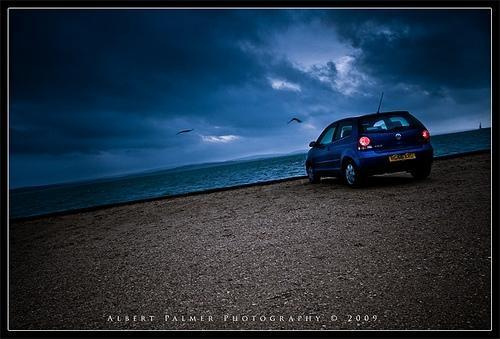car: (306, 91, 433, 190)
